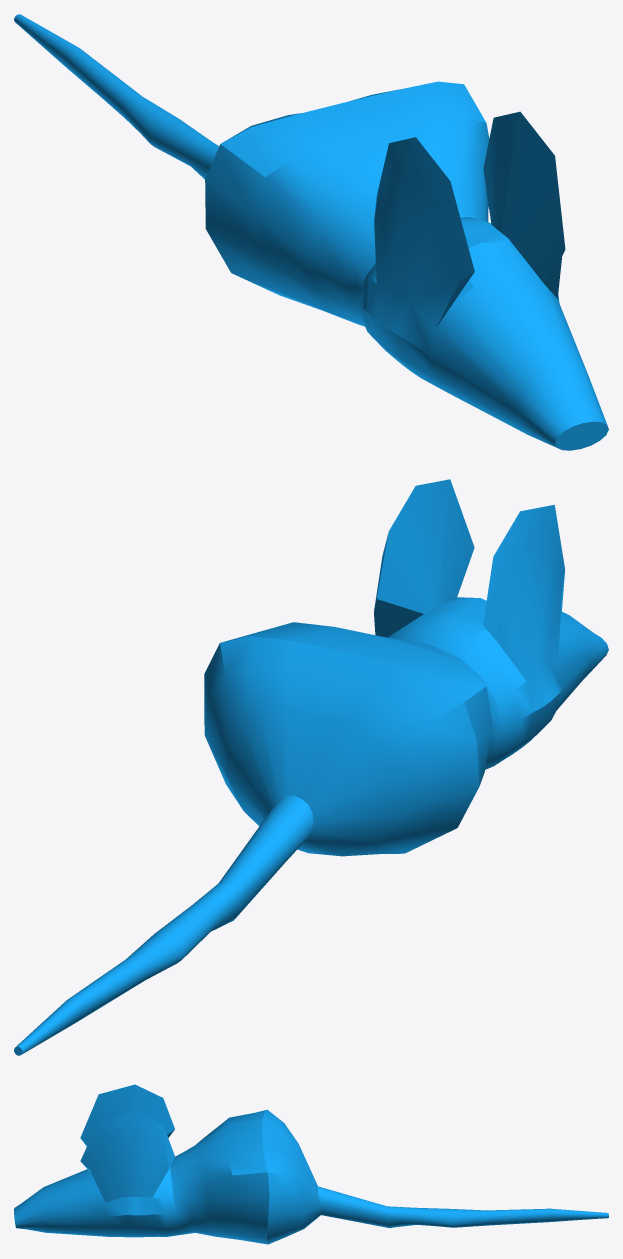
The model's file is rat+.fbx.
The picture shows the model from 3 angles, top to bottom: view 1: azimuth 30°, elevation 25°; view 2: azimuth 150°, elevation 25°; view 3: azimuth 270°, elevation 25°; orthographic projection. The views are drawn at different scales.
Parts seen in each view (by area): view 1: Cylinder; view 2: Cylinder; view 3: Cylinder.
Boxes of the visible parts, x1,y1,x2,y2 form: Cylinder: (14,14,608,450); Cylinder: (14,479,608,1055); Cylinder: (14,1084,608,1244).
Size of the model in its own units: 346 by 315 by 1235.
